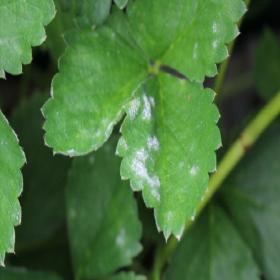Powdery Mildew Leaf: (114, 72, 223, 245), (39, 13, 153, 158), (125, 0, 249, 83)
